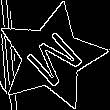M_SE: (17, 23, 85, 91)
